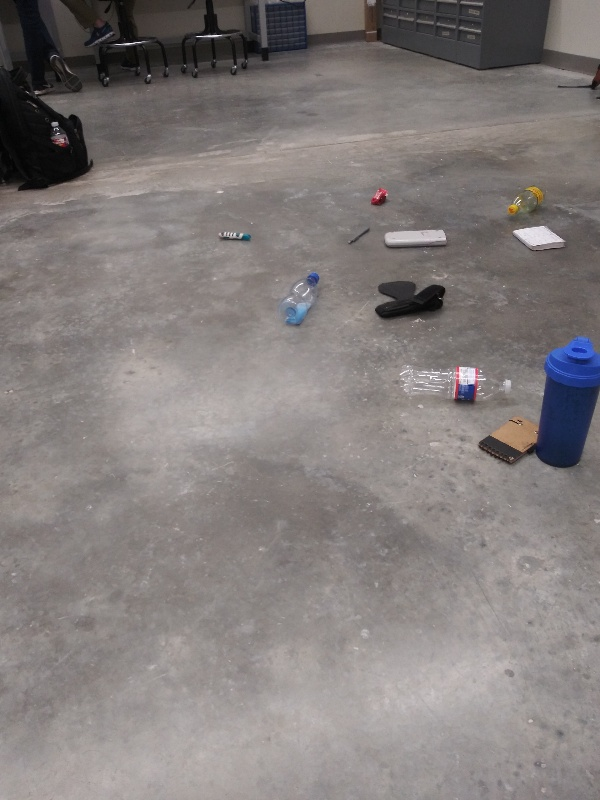bottle: (395, 361, 517, 409), (278, 268, 321, 330), (504, 182, 551, 222)
